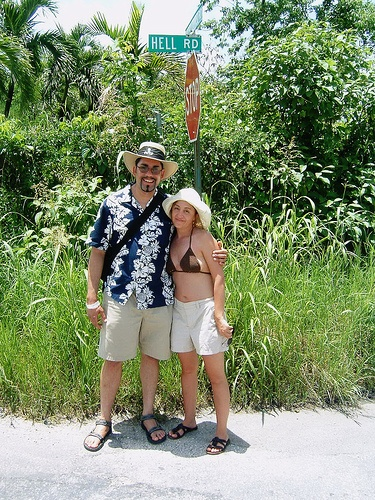head: (132, 140, 167, 194), (170, 188, 199, 229)
person: (80, 136, 182, 454), (158, 182, 239, 458)
